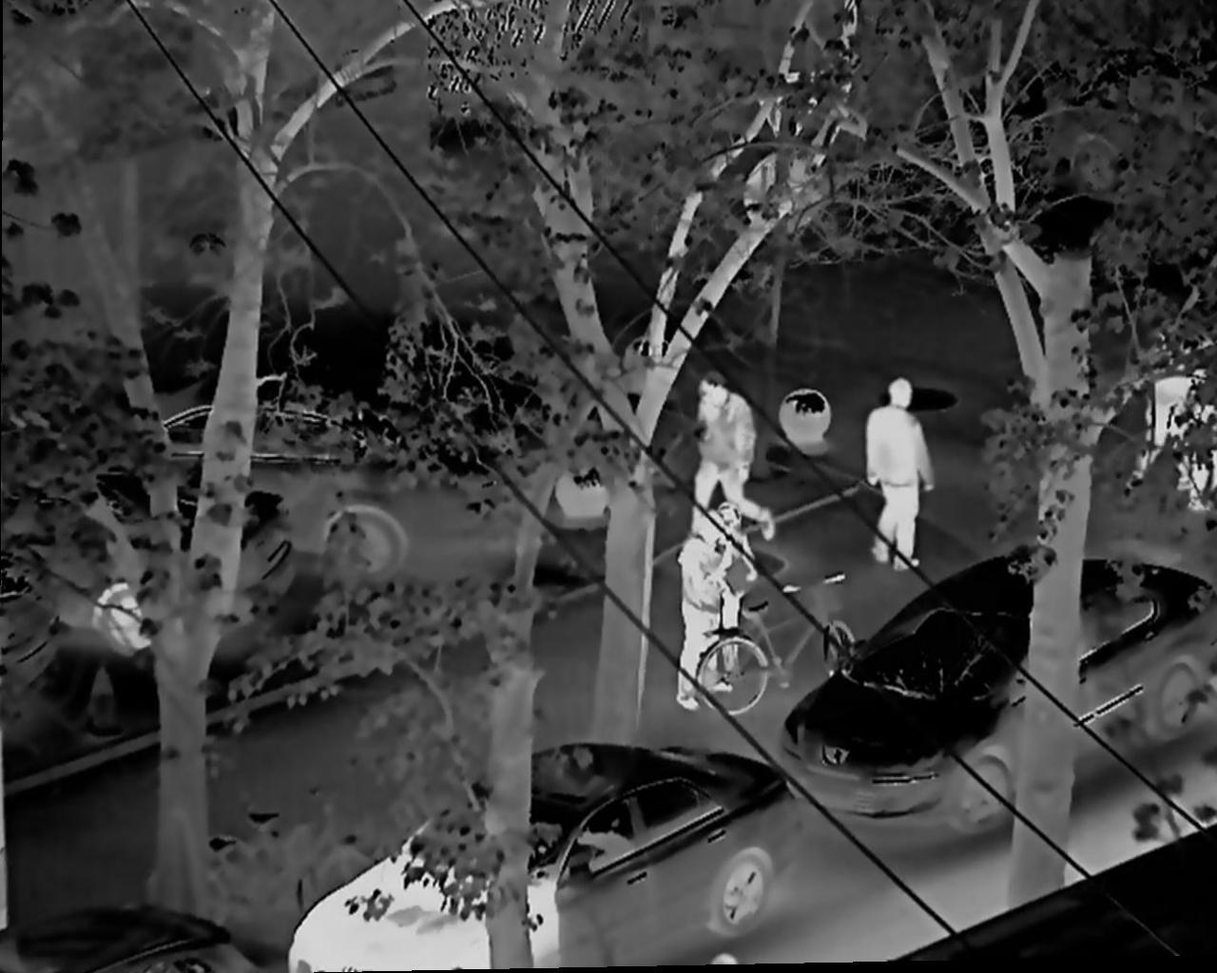person: (864, 377, 936, 576), (691, 372, 775, 542), (675, 510, 723, 708), (720, 501, 755, 685)
